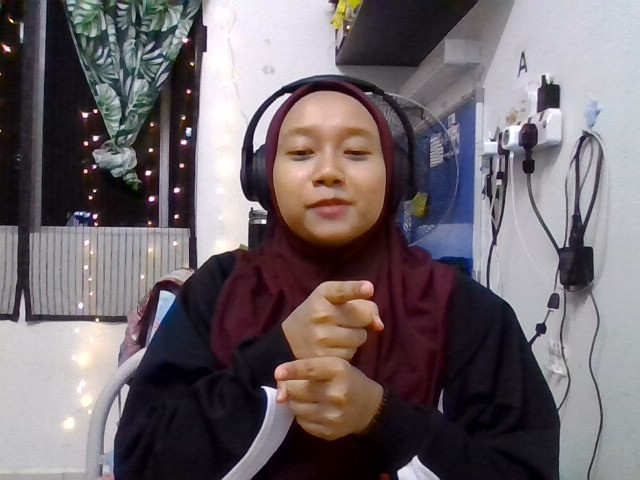Betul: (275, 279, 384, 438)
